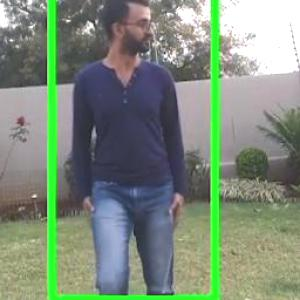follow: (67, 0, 199, 264)
